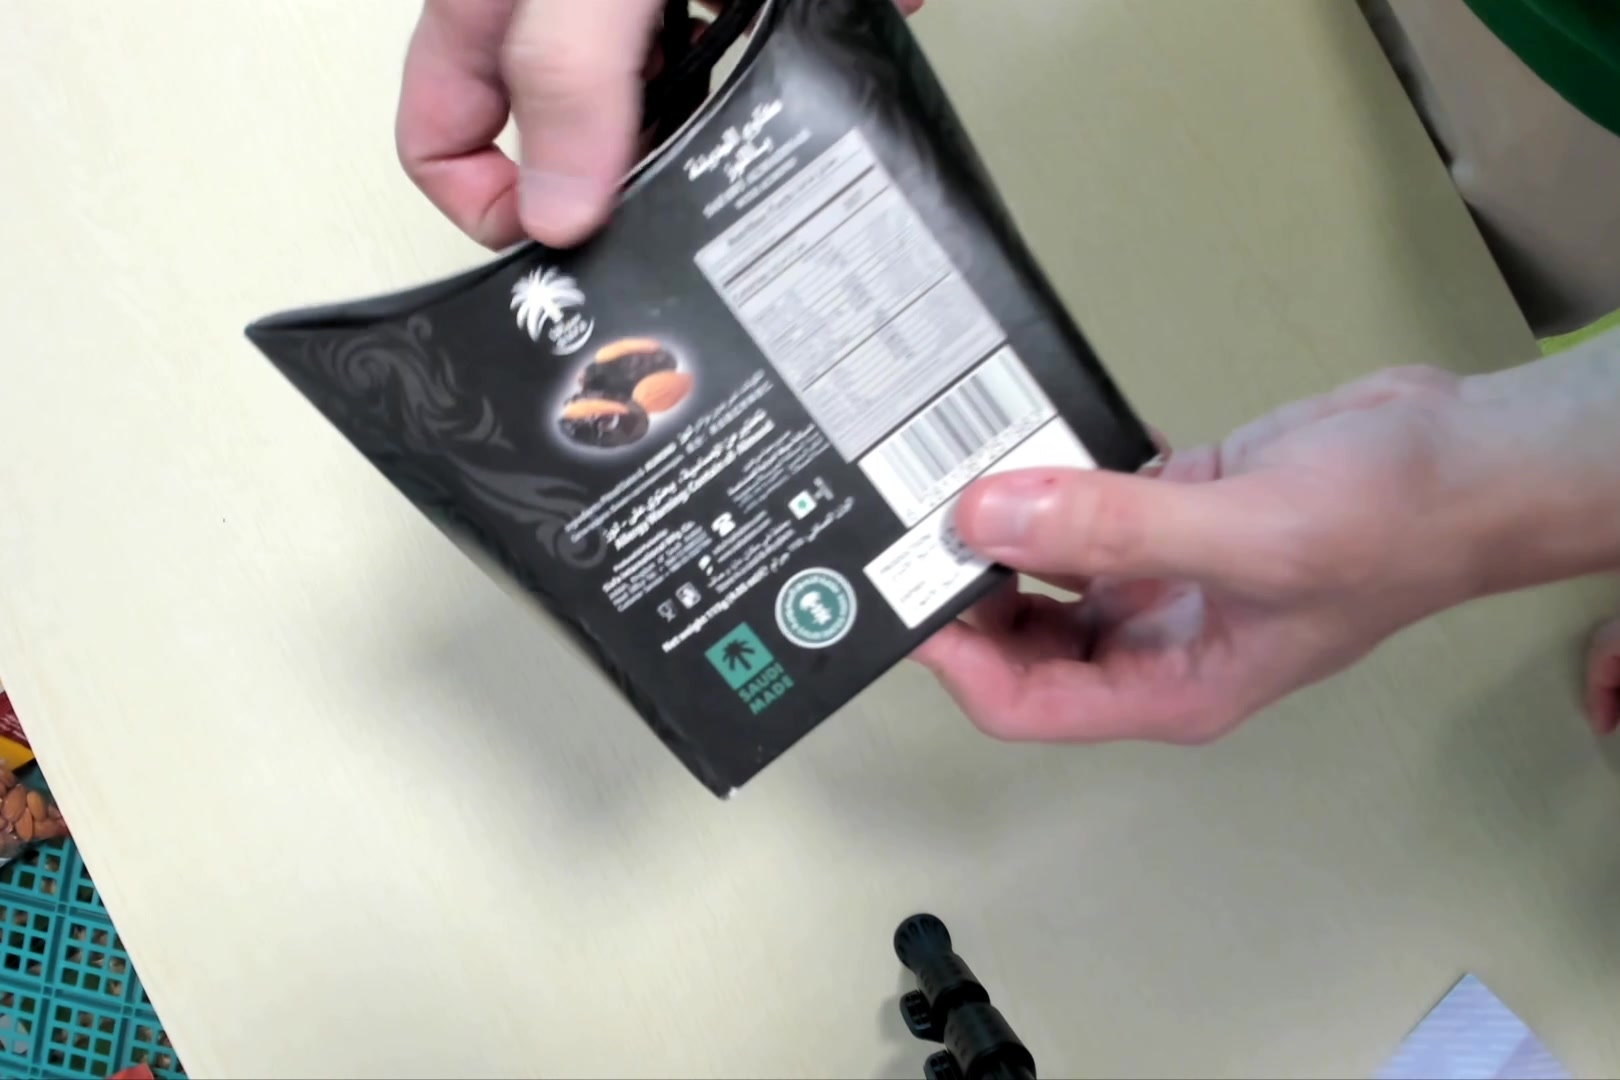DriedFood_100-199g_NonHalal_NonHealthy: (251, 8, 1166, 798)
